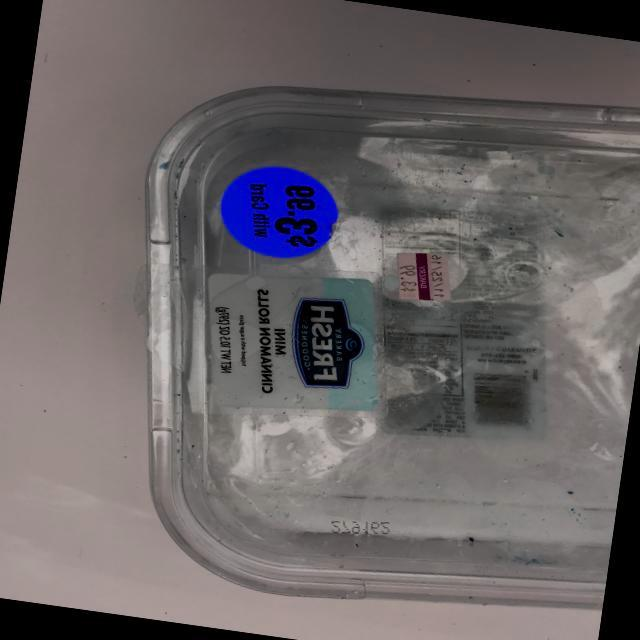plastic: (80, 23, 640, 640)
